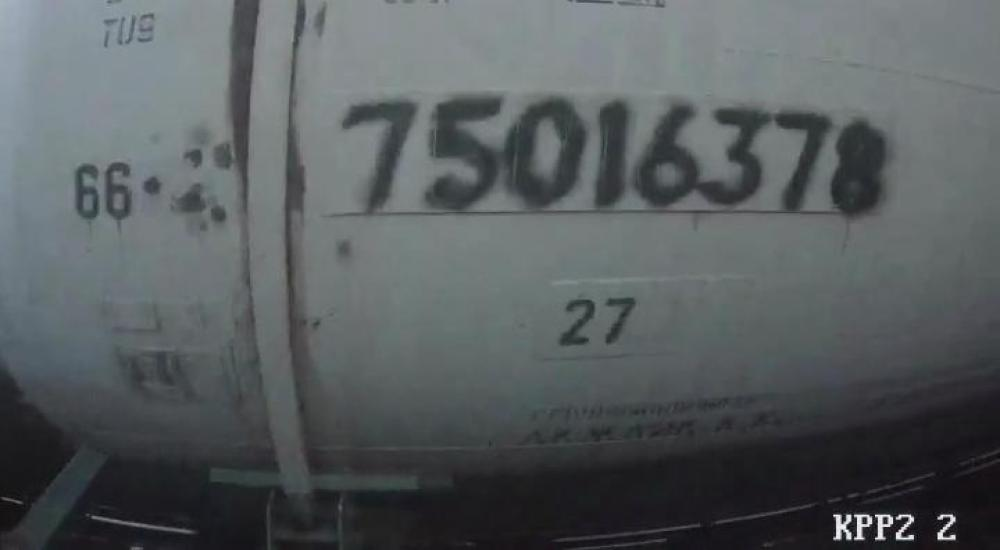Wagon-number: (334, 93, 892, 216)
